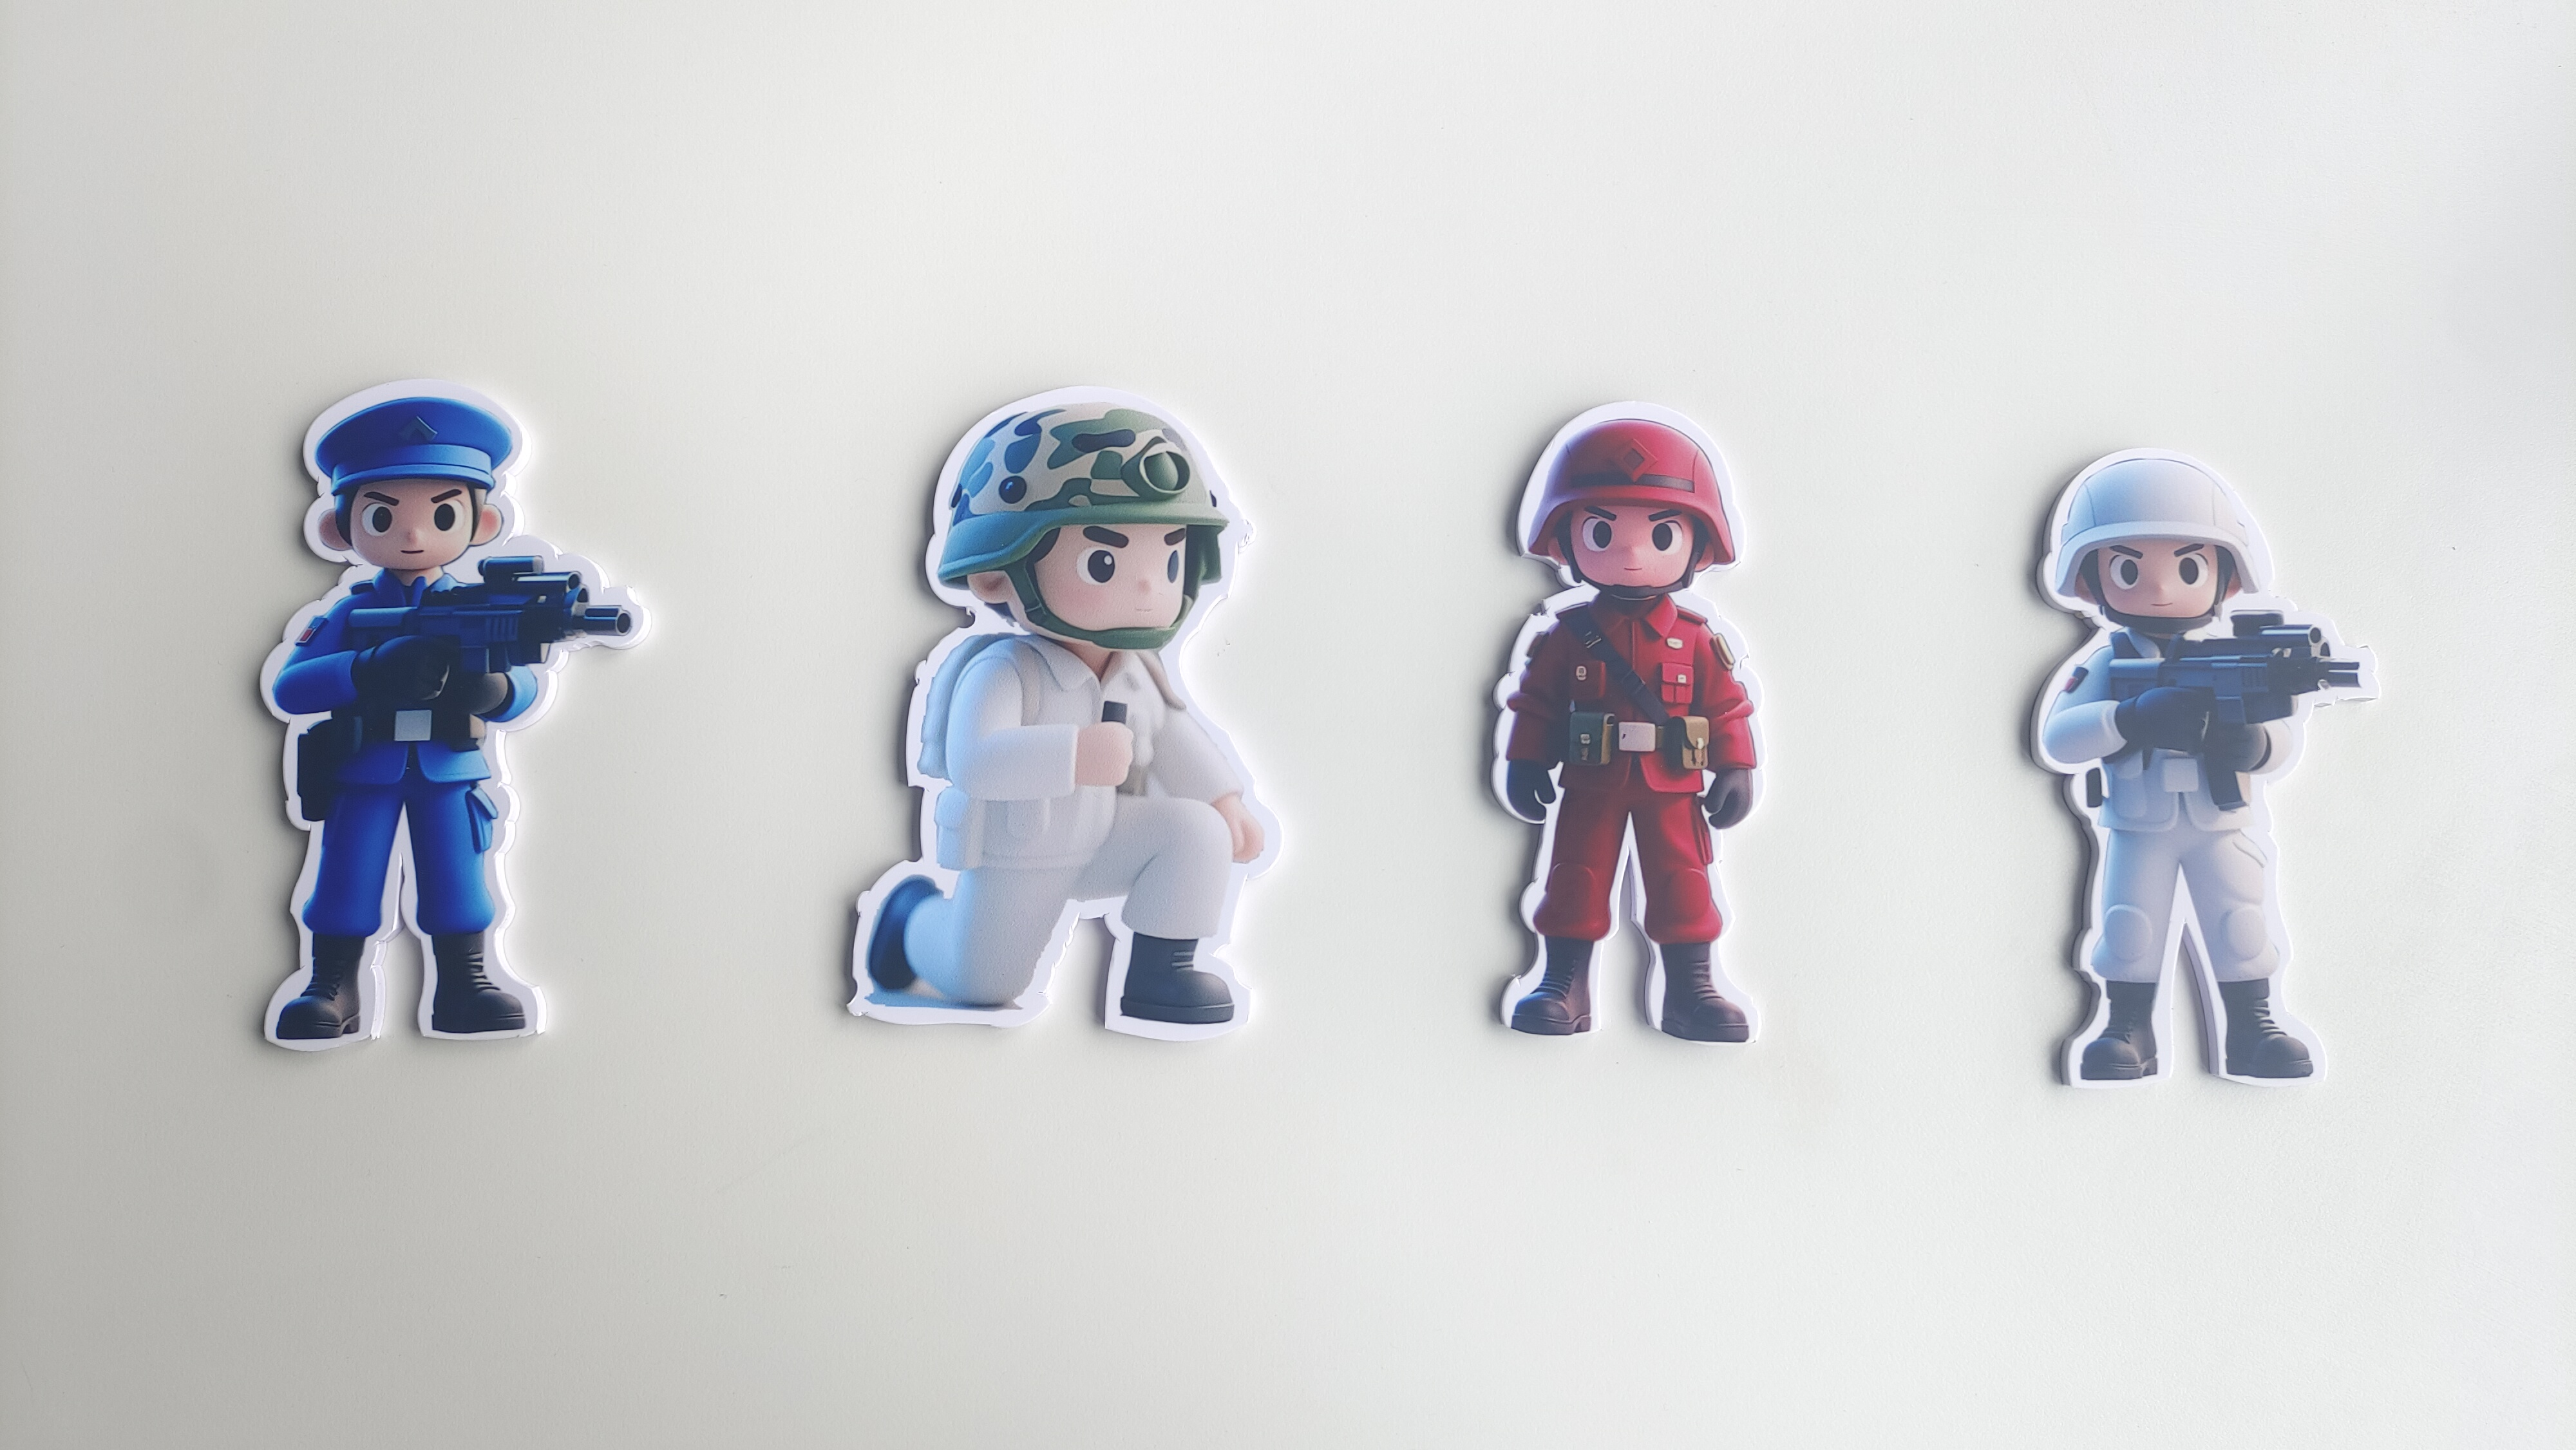enemy1: (1465, 589, 1778, 1061)
enemy2: (253, 569, 575, 1054)
hostage: (830, 628, 1279, 1050), (2010, 621, 2335, 1100)
